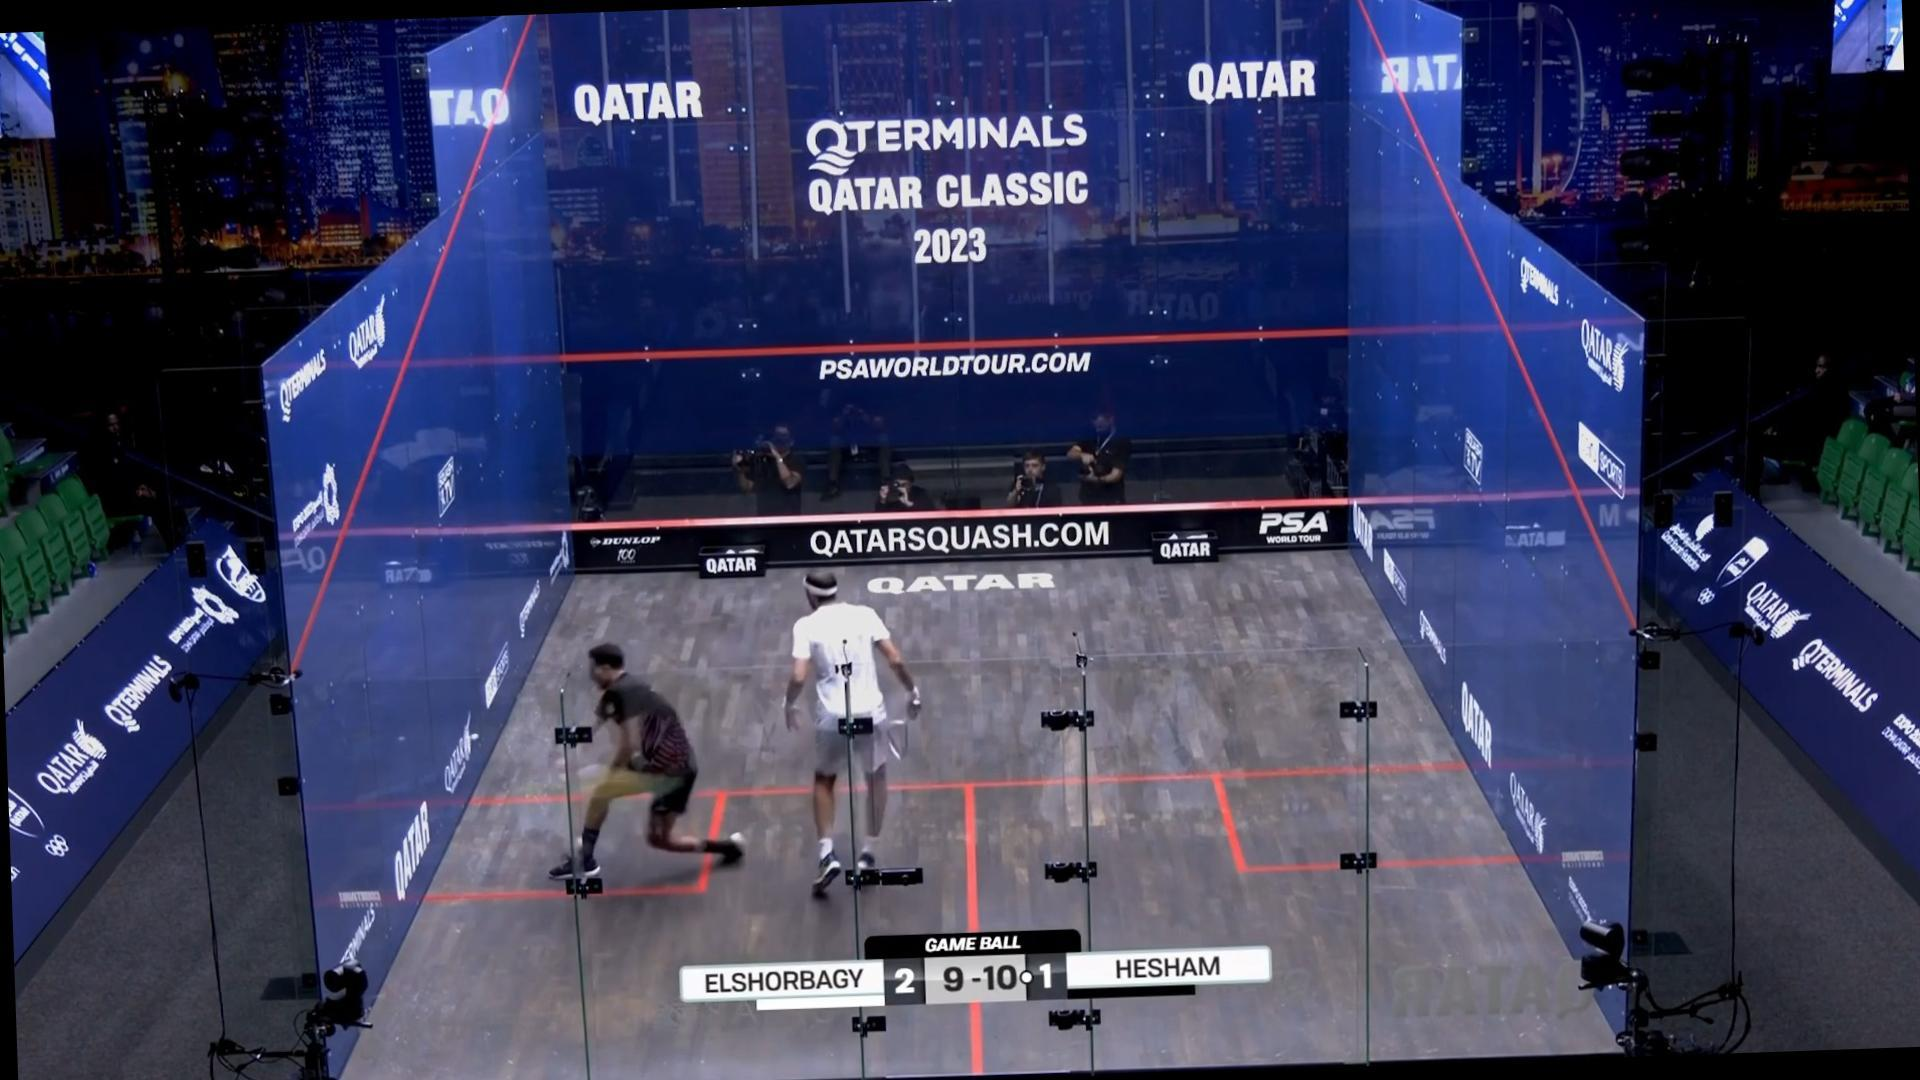Squash-Ball: (467, 725, 484, 749)
